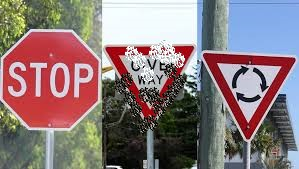giveway: (105, 44, 196, 126), (139, 46, 193, 126), (108, 46, 157, 124), (106, 47, 193, 85), (130, 47, 171, 121)
